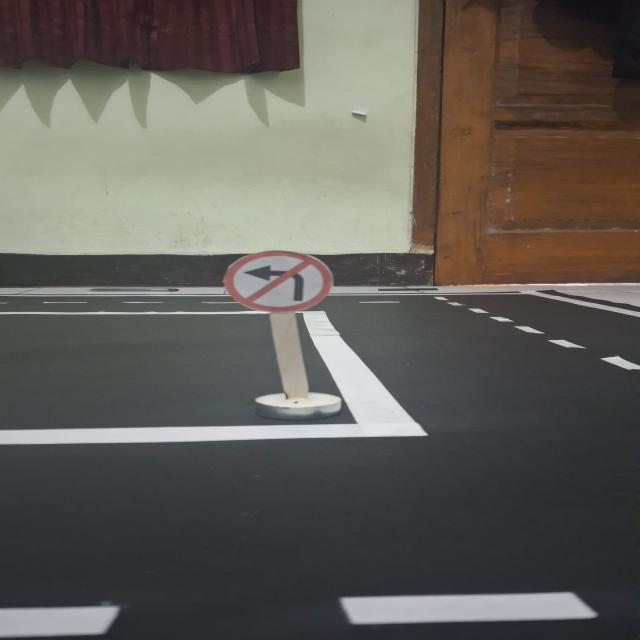Dilarang Belok Kiri: (224, 251, 333, 312)
